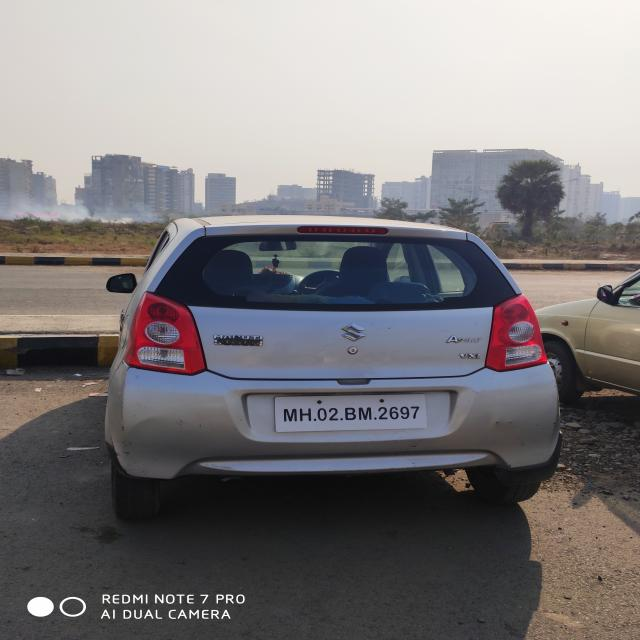Number-Plate: (276, 396, 427, 430)
